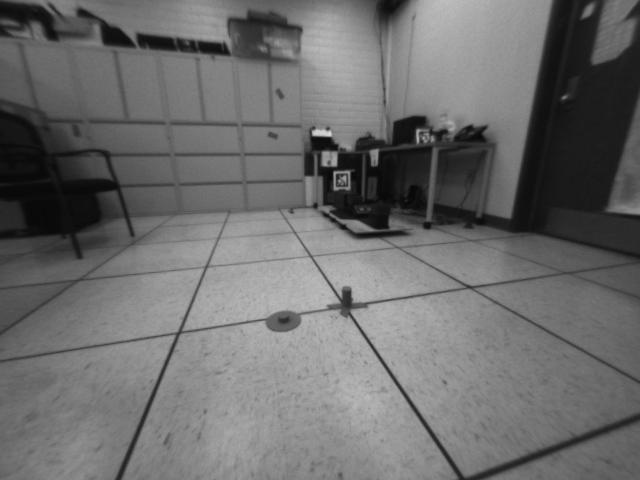X: (325, 285, 370, 319)
